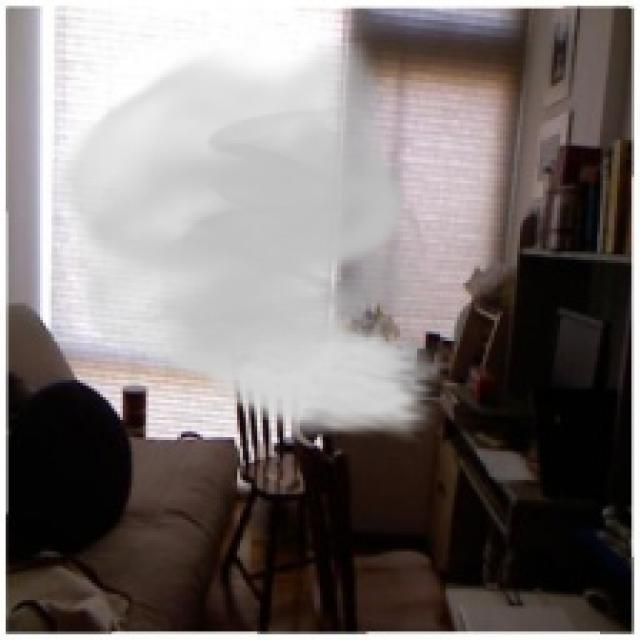Smoke: (46, 40, 452, 443)
